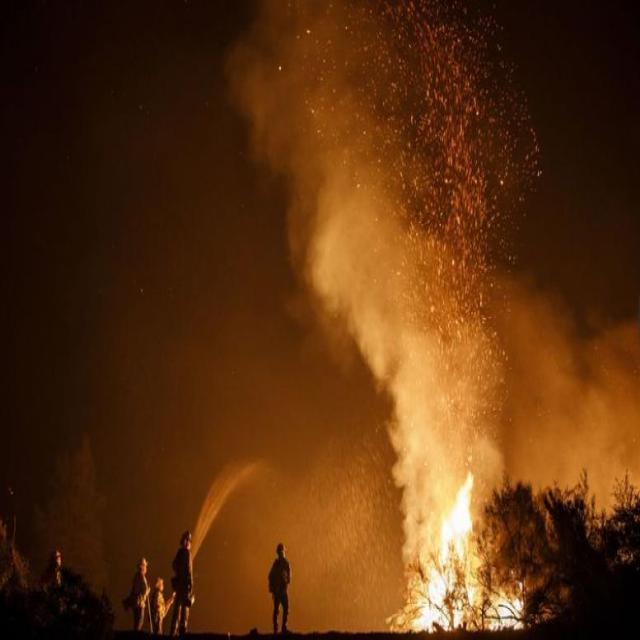Fire: (390, 465, 530, 630)
Smoke: (223, 9, 542, 452)
